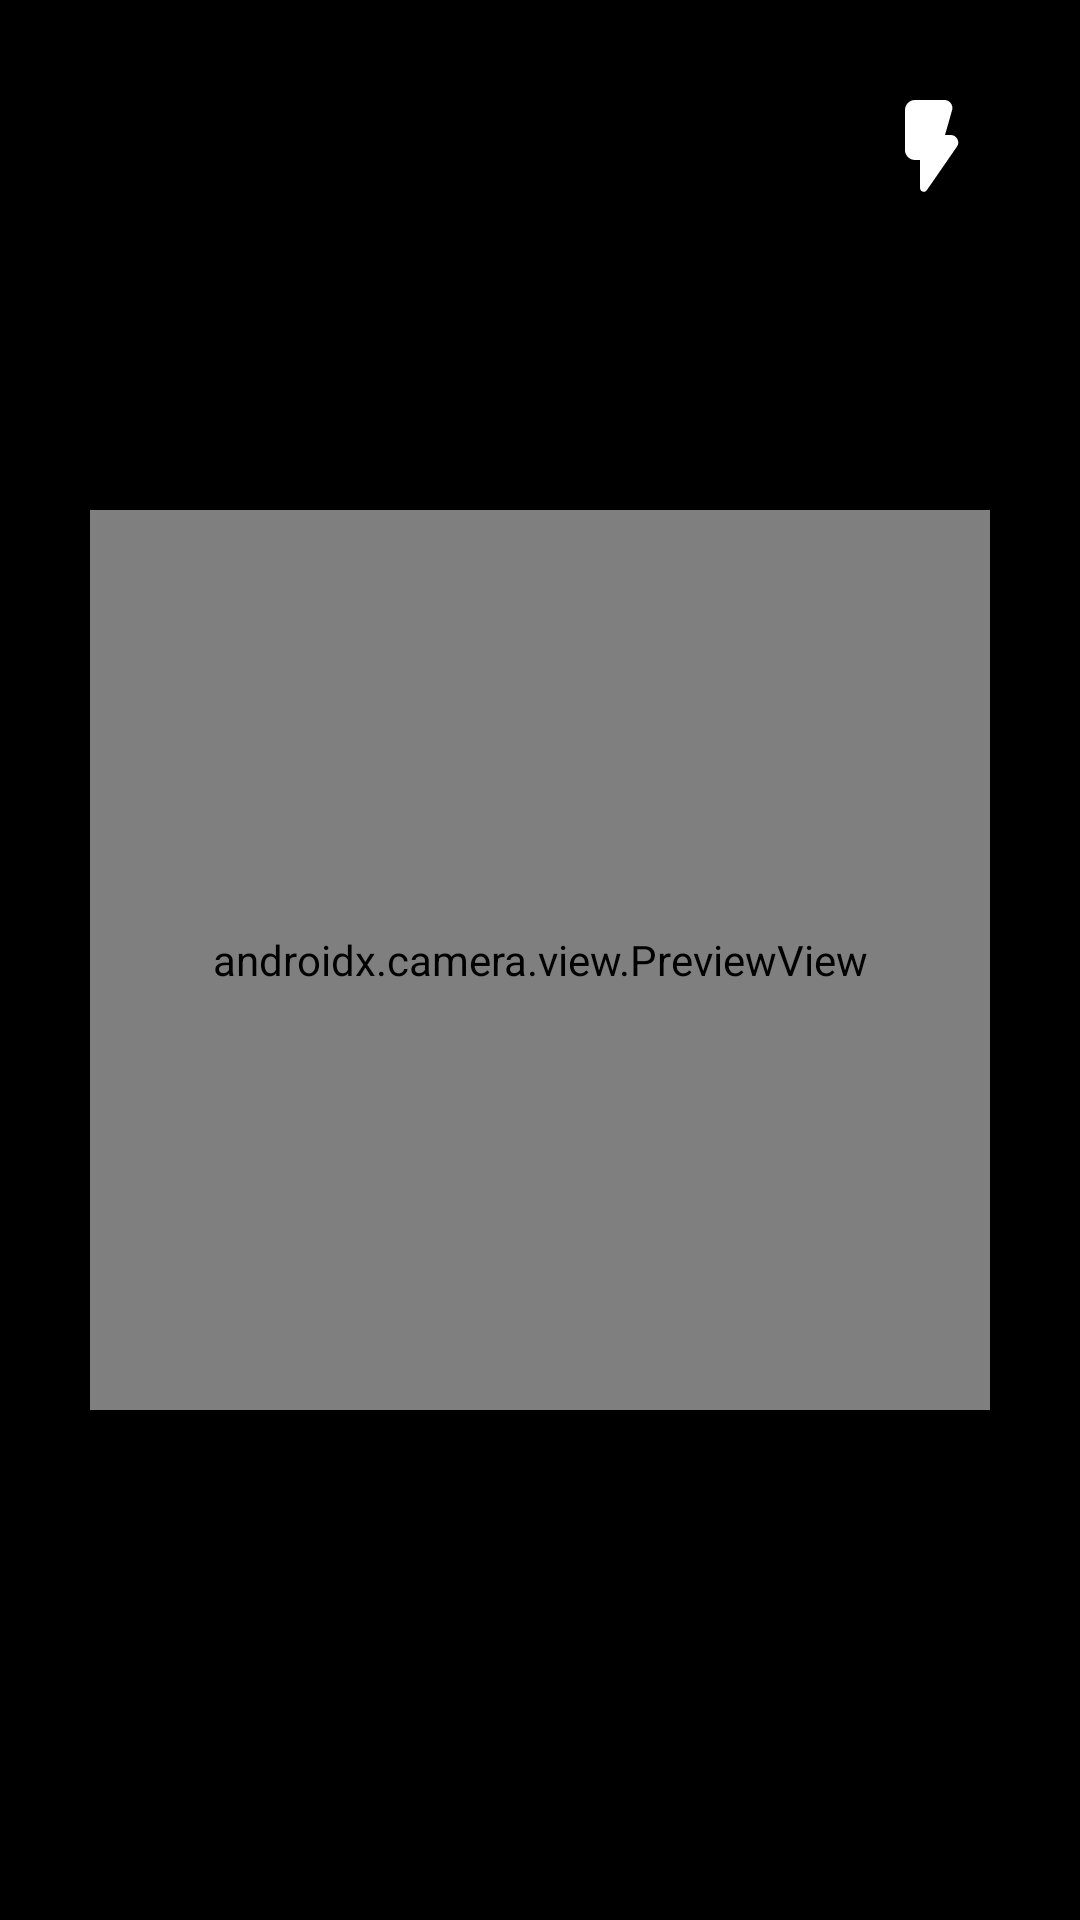

Screen size 1080px×1920px. Icon name, then its center in pixels as [x,y]:
flash on rounded: [932,146]
